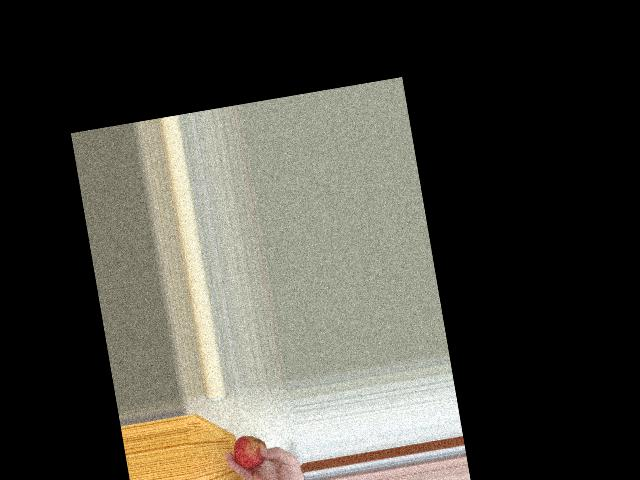apple: (230, 431, 269, 473)
